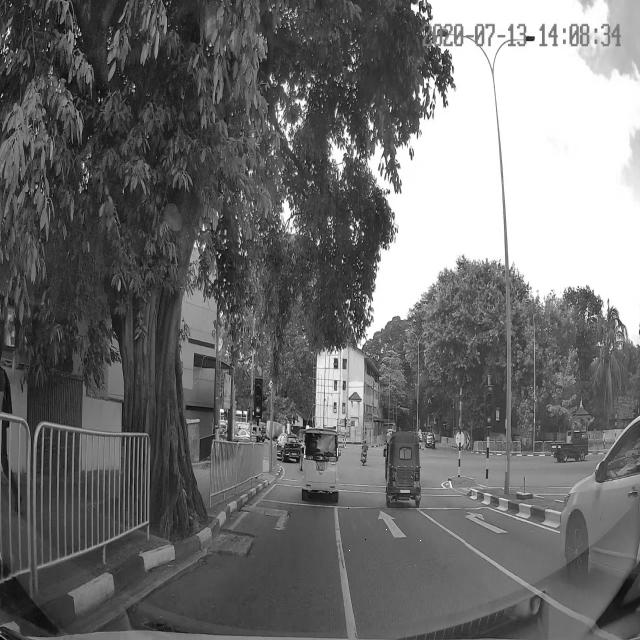forward: (335, 508, 465, 555)
